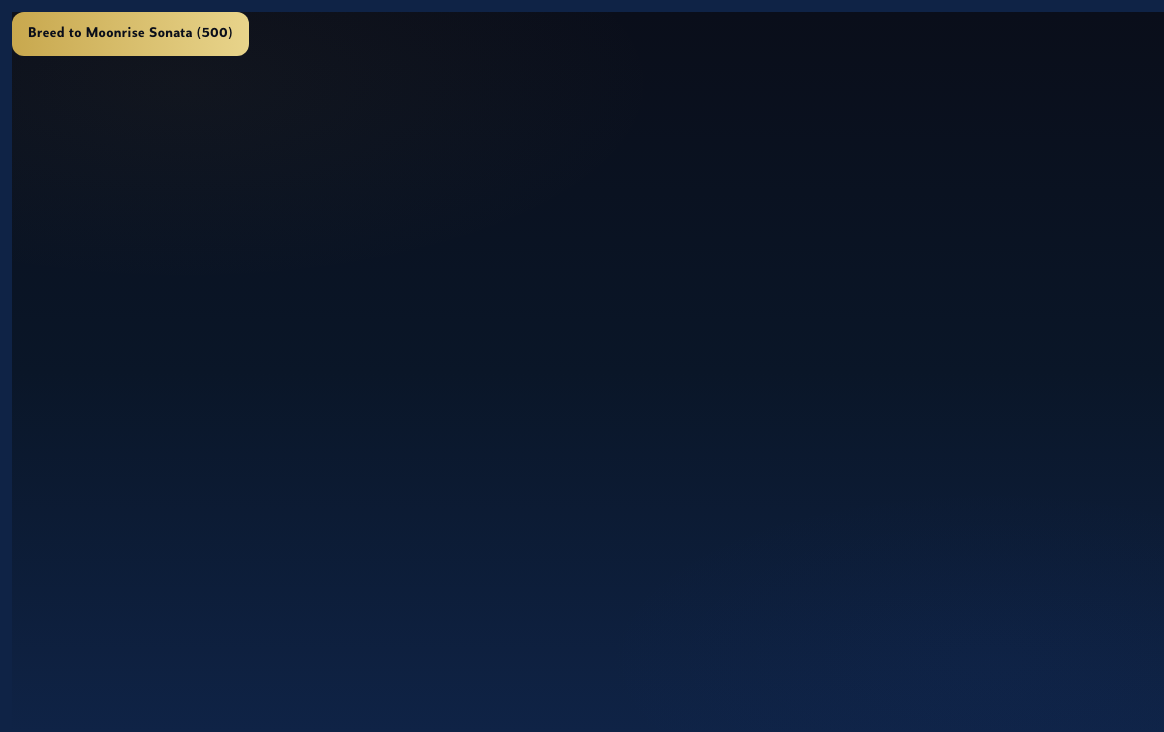
BreedToStallion › with no mares at all, it says so
This screenshot has width=1164, height=732.
Click the button "Breed to Moonrise Sonata (500)": (130, 34) [12,12,249,56]
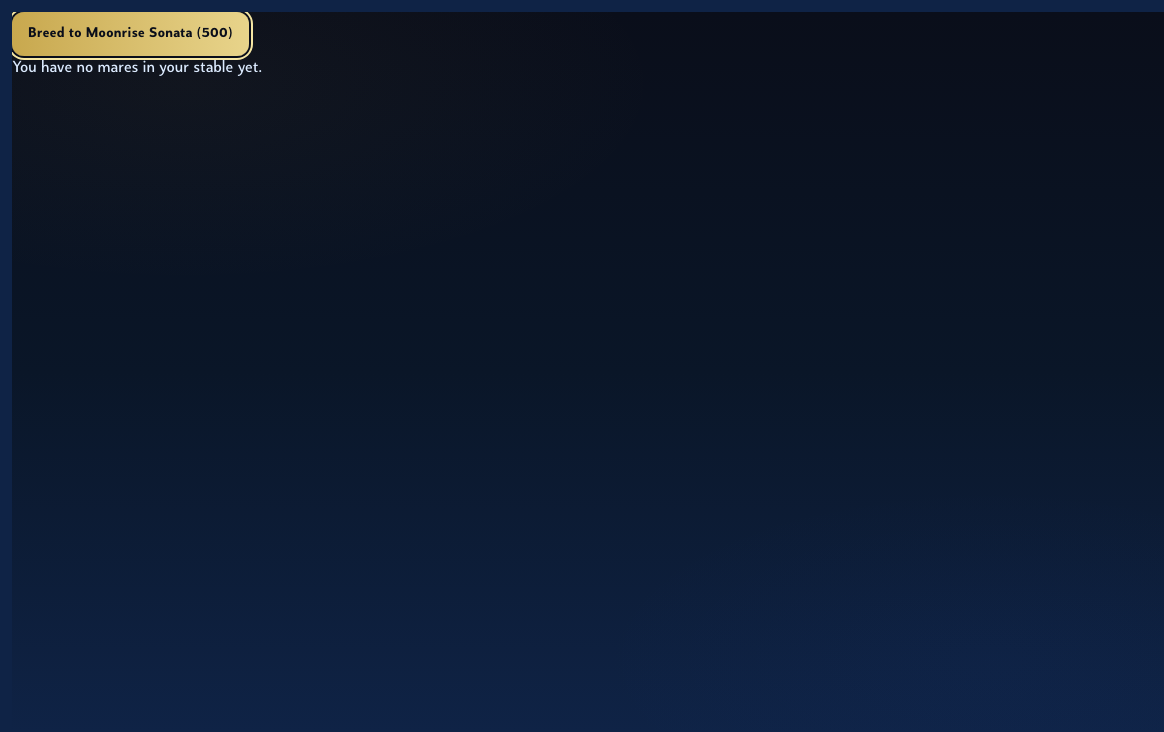
Check: the text "You have no mares in your stable yet." is shown, box [12,60,262,76]
